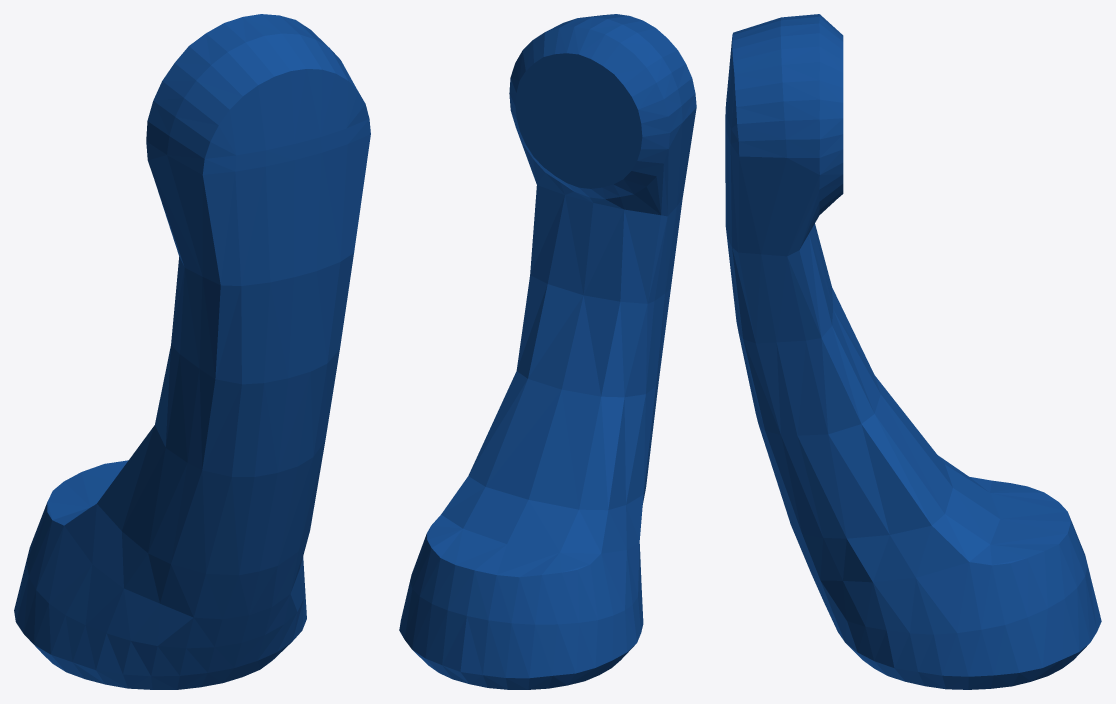
File: arm_4_link.dae
3 renders of one model, left to right at view 1: azimuth 30°, elevation 25°; view 2: azimuth 150°, elevation 25°; view 3: azimuth 270°, elevation 25°, orthographic. The views are drawn at different scales.
Parts seen in each view (by area): view 1: Arm_4_Link; view 2: Arm_4_Link; view 3: Arm_4_Link.
Part boxes in pixels (x1,y1,x2,y2): Arm_4_Link: [14, 14, 370, 689]; Arm_4_Link: [399, 14, 696, 689]; Arm_4_Link: [725, 14, 1101, 689].
Bounding box in the file's own units: 0.1093 × 0.1548 × 0.2806.
